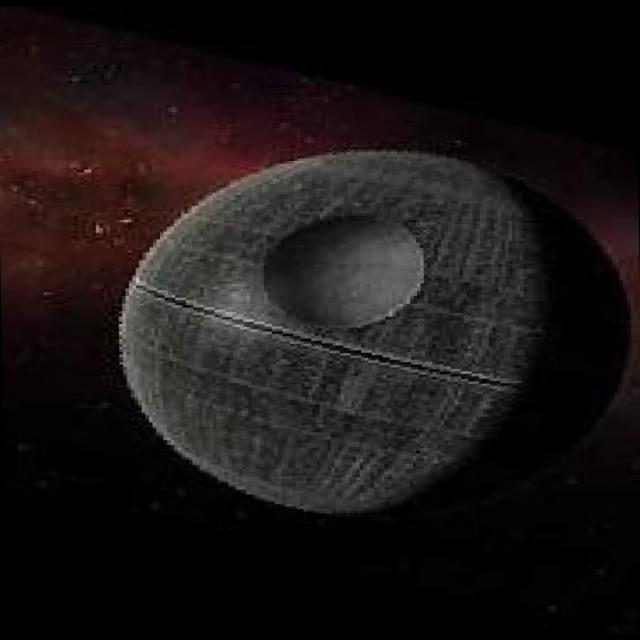Death Star: (110, 138, 576, 524)
